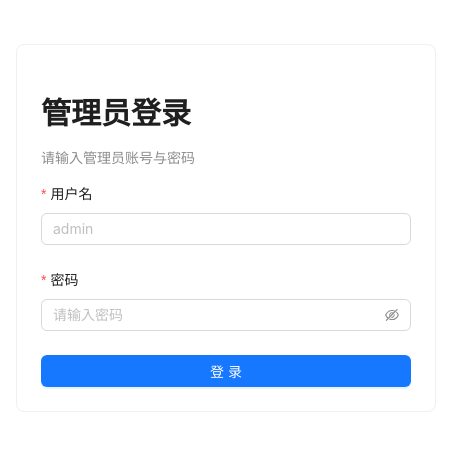
Test case: LoginPage › shows error alert on login failure
Step 1. Type "wronguser" into the field with placeholder "admin" → [226, 229], box left=41, top=213, right=411, bottom=245
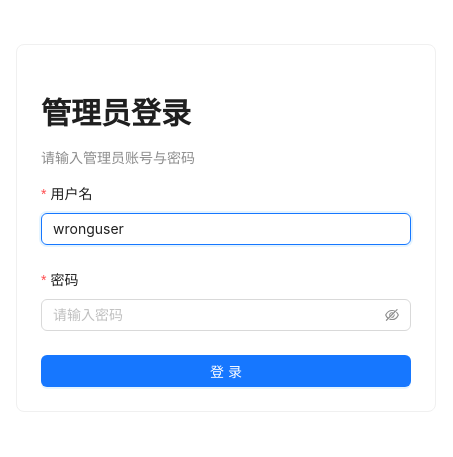
Step 2. Type "wrongpass" into the password field with placeholder "请输入密码" → [217, 315], box left=53, top=304, right=381, bottom=326
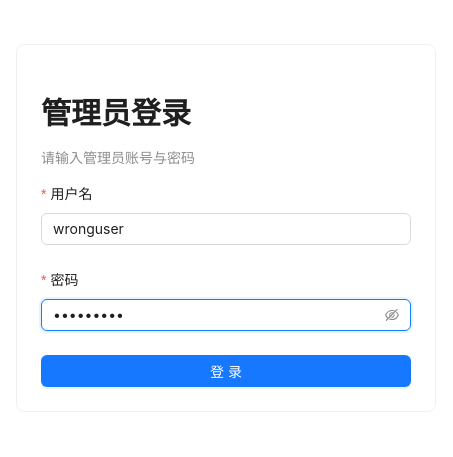
Step 3. Click the button "登 录" → [226, 371], box left=41, top=355, right=411, bottom=387
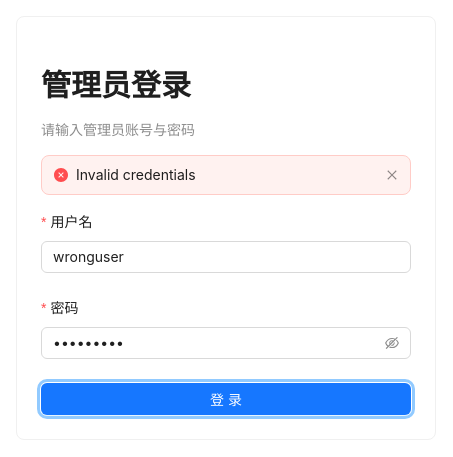
Expected: the text "Invalid credentials" is shown, left=76, top=166, right=196, bottom=183
